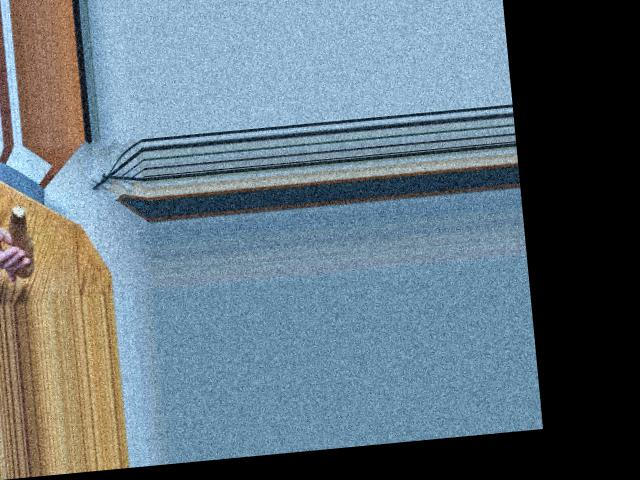sweet_potato: (9, 212, 42, 273)
